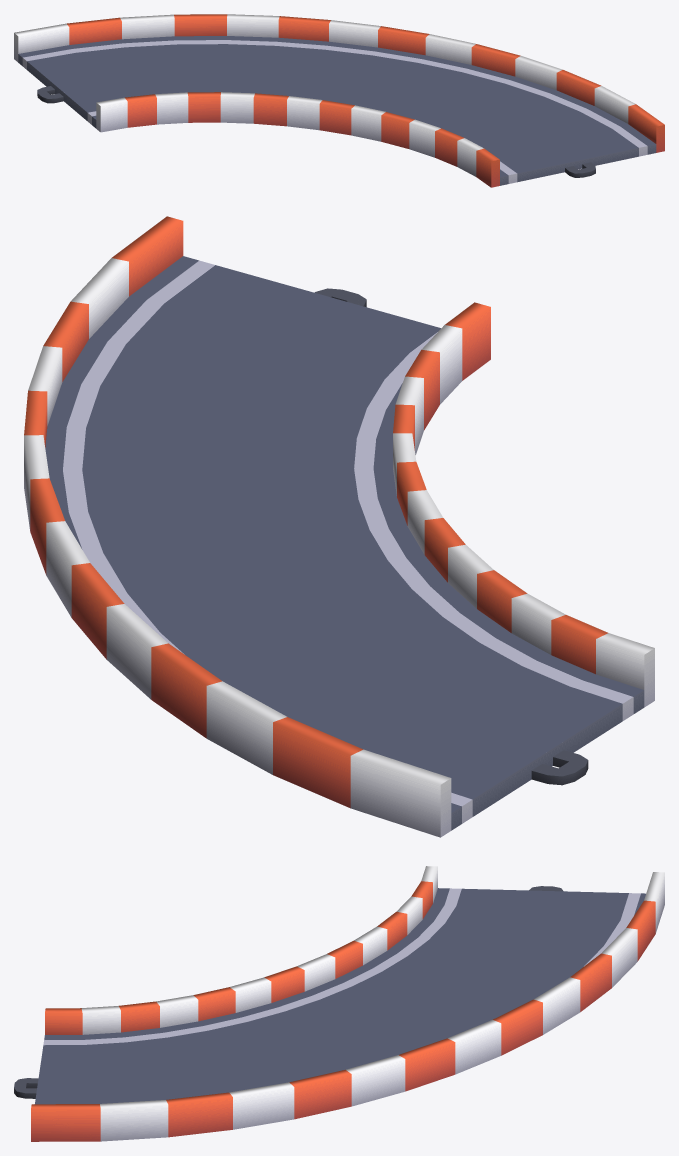
Rendered from track-road-wide-corner-large.004.glb.
3 views of the same model, one above another, from view 1: azimuth 30°, elevation 25°; view 2: azimuth 150°, elevation 25°; view 3: azimuth 270°, elevation 25° (orthographic). The views are drawn at different scales.
Parts seen in each view (by area): view 1: track-road-wide-corner-large.004; view 2: track-road-wide-corner-large.004; view 3: track-road-wide-corner-large.004.
Part boxes in pixels (bbox=[...]): track-road-wide-corner-large.004: bbox=[14, 14, 664, 187]; track-road-wide-corner-large.004: bbox=[24, 216, 654, 837]; track-road-wide-corner-large.004: bbox=[14, 866, 664, 1141].
Size of the model in its own units: 4.95 by 0.3 by 5.44.
Materials: 1 (1 with a texture image).
